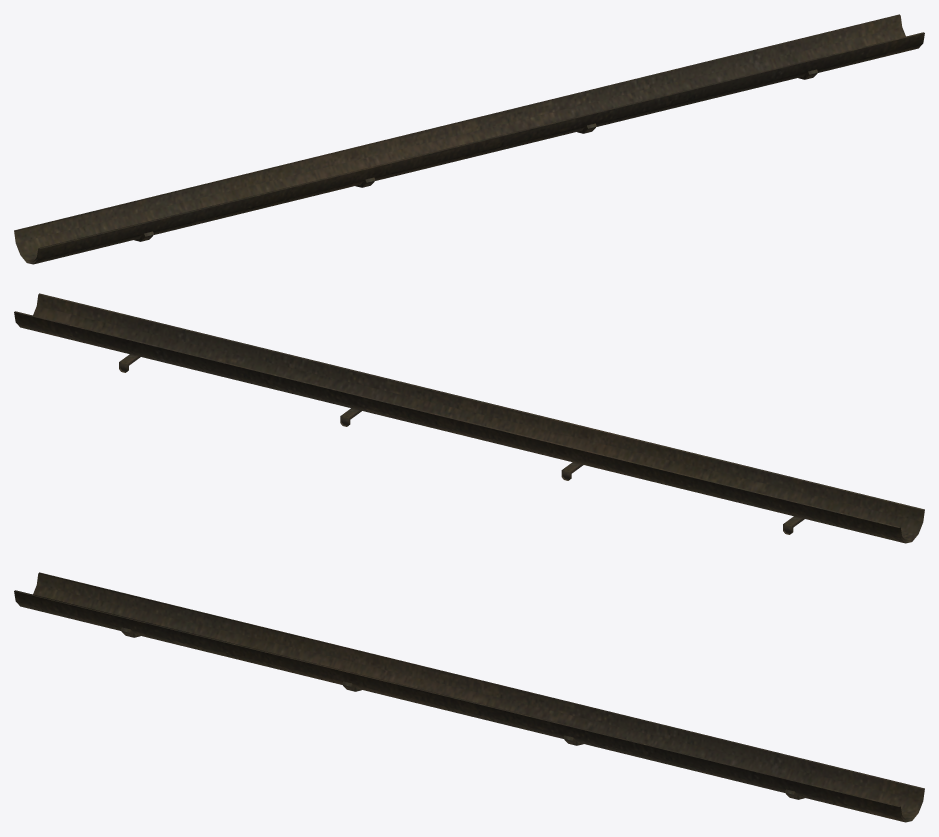
File: rainwater_pipe_hl_1_middle.obj
3 renders of one model, top to bottom at view 1: azimuth 30°, elevation 25°; view 2: azimuth 150°, elevation 25°; view 3: azimuth 330°, elevation 25°, orthographic.
Parts seen in each view (by area): view 1: rainwater_pipe_hl_1_middle; view 2: rainwater_pipe_hl_1_middle; view 3: rainwater_pipe_hl_1_middle.
Boxes of the visible parts, x1,y1,x2,y2 form: rainwater_pipe_hl_1_middle: [14, 14, 924, 264]; rainwater_pipe_hl_1_middle: [14, 293, 924, 543]; rainwater_pipe_hl_1_middle: [14, 572, 924, 822].
Size of the model in its own units: 4 by 0.14 by 0.21.
